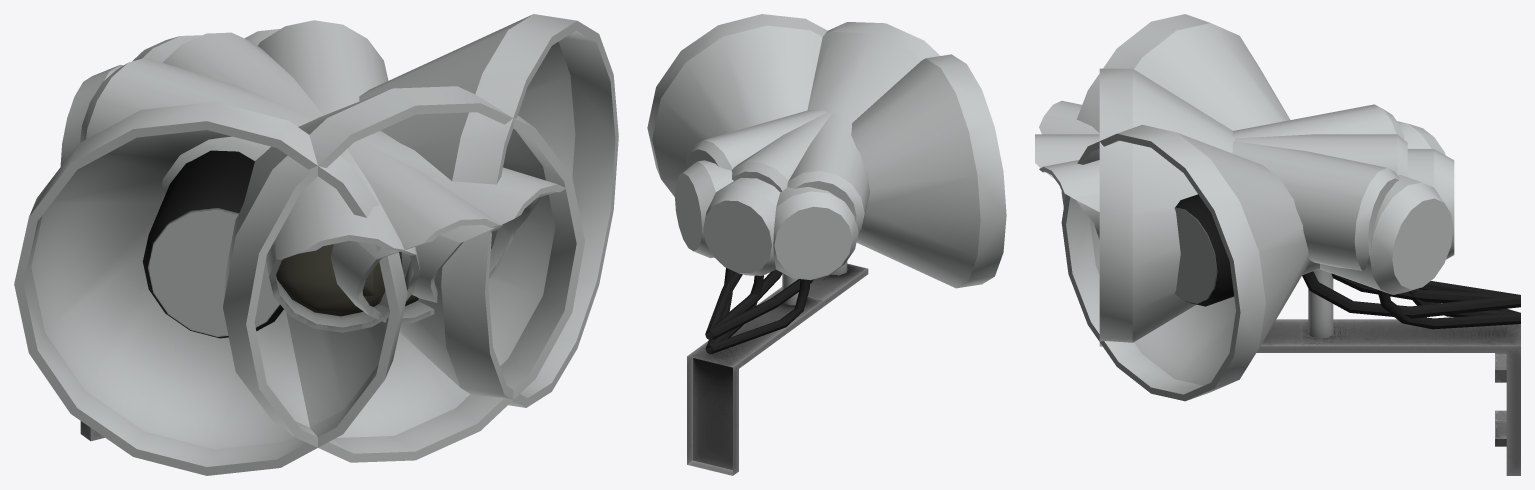
File: speaker_camera_0001.fbx
3 renders of one model, left to right at view 1: azimuth 30°, elevation 25°; view 2: azimuth 150°, elevation 25°; view 3: azimuth 270°, elevation 25°, orthographic. The views are drawn at different scales.
Visible parts, largest first — view 1: speaker_0001_right, speaker_0001_straight, speaker_0001_left, camera_0001_right, camera_0001_left, camera_0001_straight; view 2: speaker_0001_right, speaker_0001_left, speaker_0001_straight, camera_0001_straight, camera_0001_left, camera_0001_right; view 3: speaker_0001_left, speaker_0001_straight, speaker_0001_right, camera_0001_straight, camera_0001_right, camera_0001_left.
Boxes of the visible parts, <box> form: speaker_0001_right: <box>14,28,407,475</box>; speaker_0001_straight: <box>132,35,585,462</box>; speaker_0001_left: <box>60,14,618,407</box>; camera_0001_right: <box>258,20,420,332</box>; camera_0001_left: <box>80,57,566,302</box>; camera_0001_straight: <box>80,32,502,441</box>; speaker_0001_right: <box>675,54,1006,354</box>; speaker_0001_left: <box>647,14,858,354</box>; speaker_0001_straight: <box>693,22,940,365</box>; camera_0001_straight: <box>687,112,868,475</box>; camera_0001_left: <box>705,113,869,340</box>; camera_0001_right: <box>685,110,847,340</box>; speaker_0001_left: <box>1061,121,1520,401</box>; speaker_0001_straight: <box>1099,68,1518,352</box>; speaker_0001_right: <box>1061,14,1520,329</box>; camera_0001_straight: <box>1035,134,1520,475</box>; camera_0001_right: <box>1039,100,1520,318</box>; camera_0001_left: <box>1039,104,1519,294</box>.
Bounding box in the file's own units: 0.7739 × 0.6552 × 0.7574.
